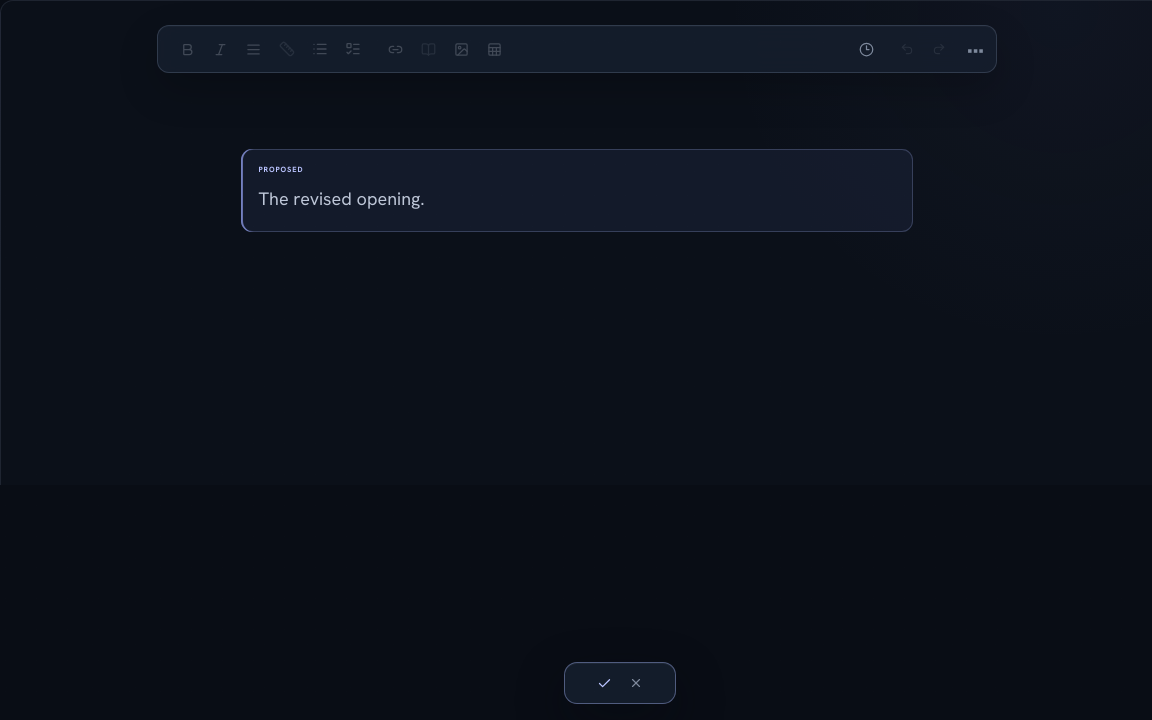
external inline actions use the actual rich editor › uses an empty paragraph placeholder for Write and does not discard astral instruction characters
Click the button named "Accept AI writing" at (604, 683), box [590, 668, 618, 698]
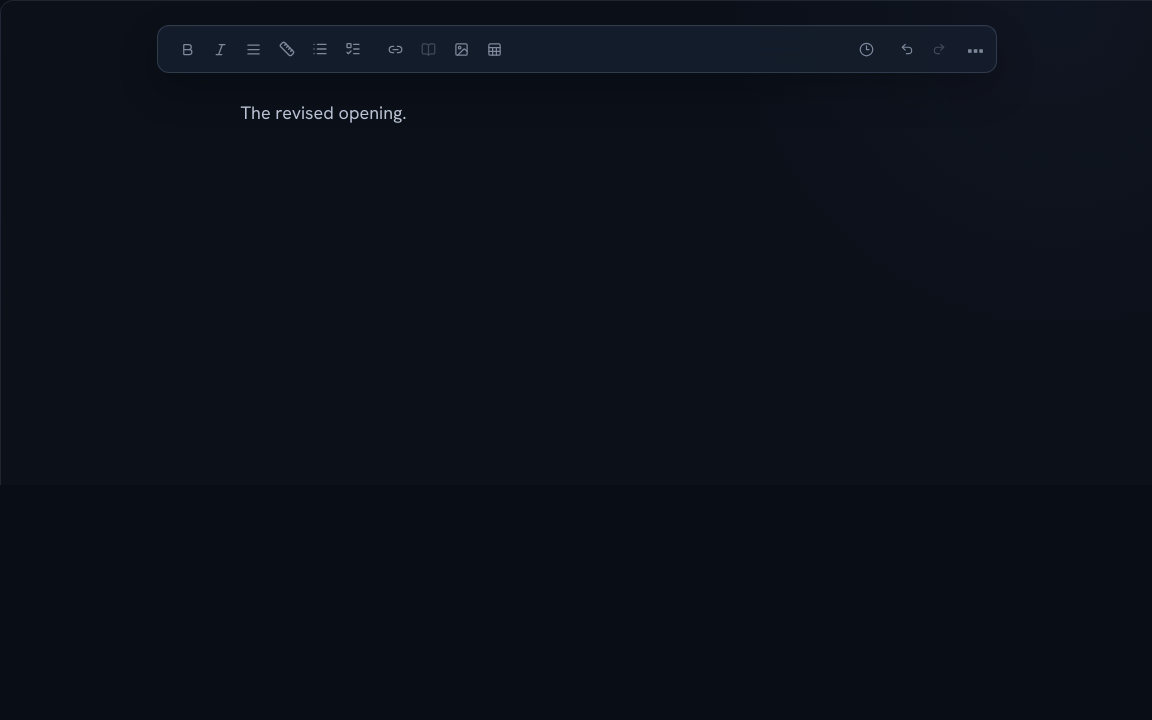
expect the text box labelled "The revised opening." is shown: met, box [240, 101, 407, 124]
